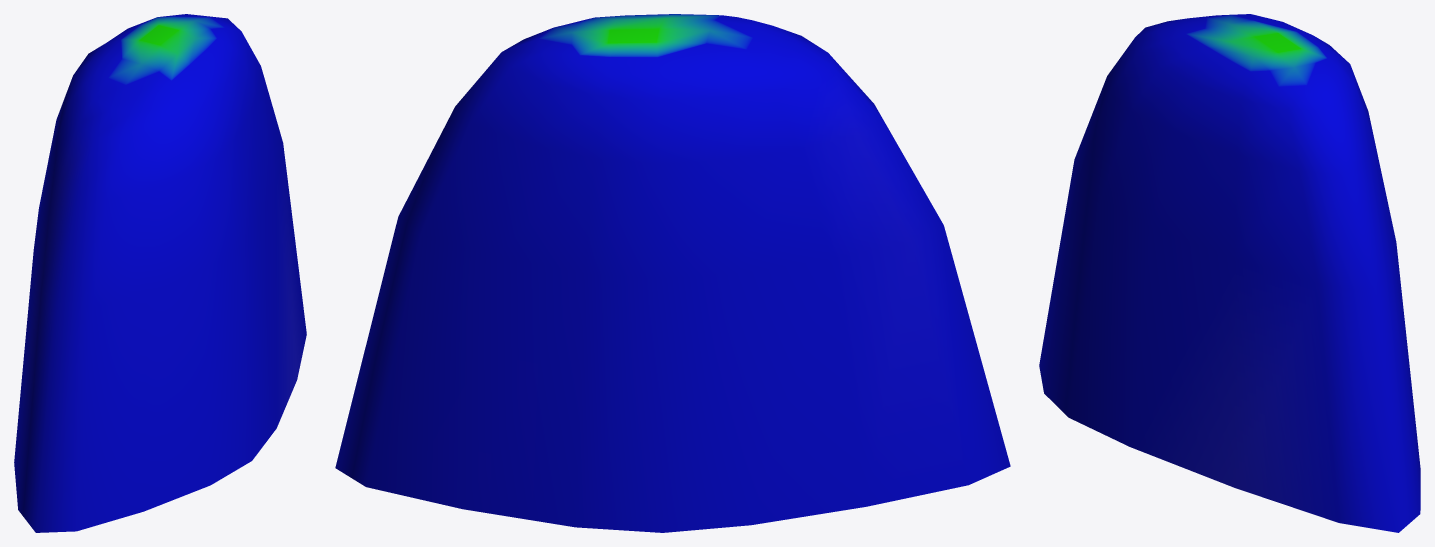
The model's file is Tropics OOB Island.fbx.
The picture shows the model from 3 angles, left to right: view 1: azimuth 30°, elevation 25°; view 2: azimuth 150°, elevation 25°; view 3: azimuth 270°, elevation 25°; orthographic projection. The views are drawn at different scales.
Parts seen in each view (by area): view 1: OOB Island; view 2: OOB Island; view 3: OOB Island.
Boxes of the visible parts, <box> form: OOB Island: <box>14,14,306,532</box>; OOB Island: <box>335,14,1010,532</box>; OOB Island: <box>1039,14,1420,532</box>.
Size of the model in its own units: 103178 by 90162 by 77709.
